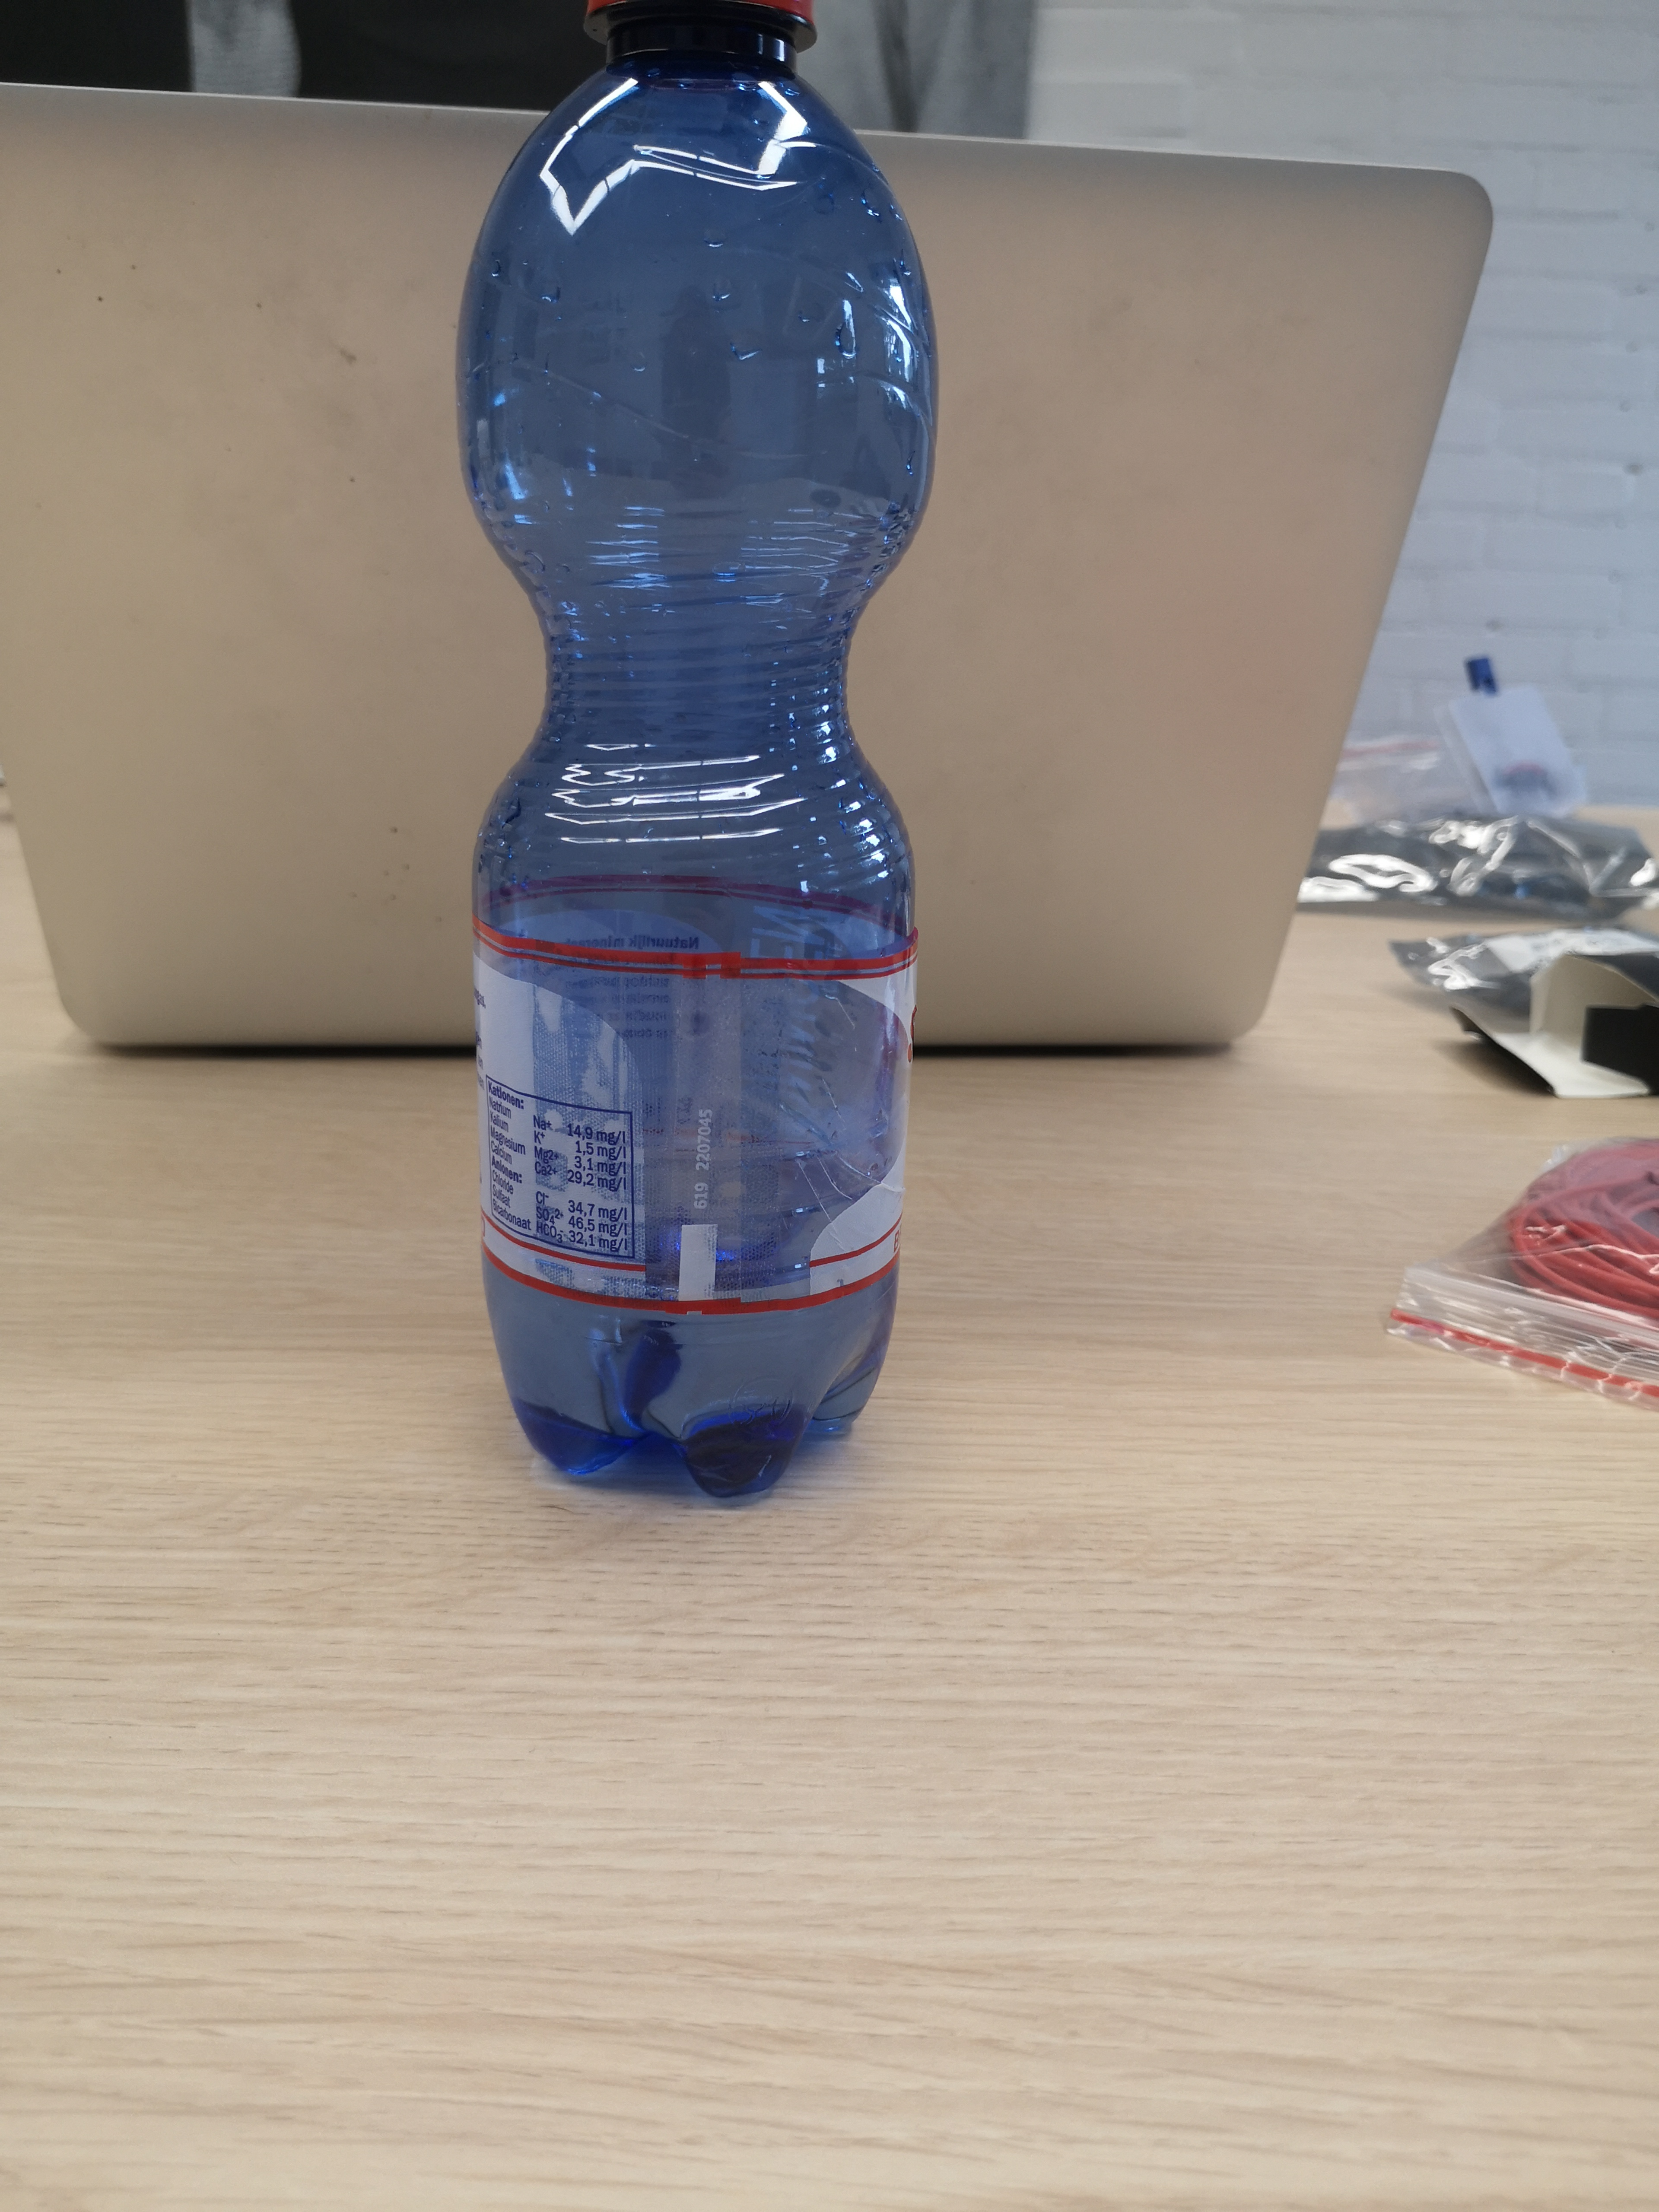plastic_bottle: (432, 0, 978, 1552)
